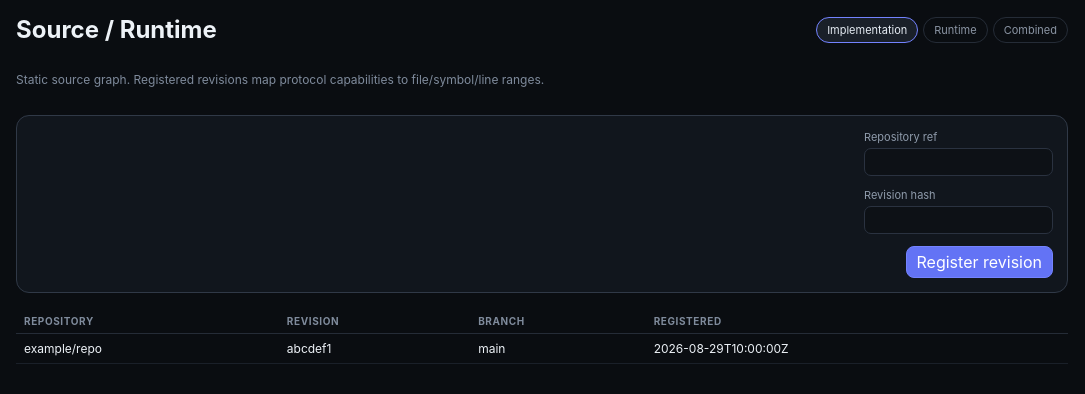
Test case: SourcePage — Stream E › switches to Runtime and renders the source graph
This screenshot has width=1085, height=394.
Click the tab with test id "source-mode-runtime" at (956, 30), box [923,16,988,42]
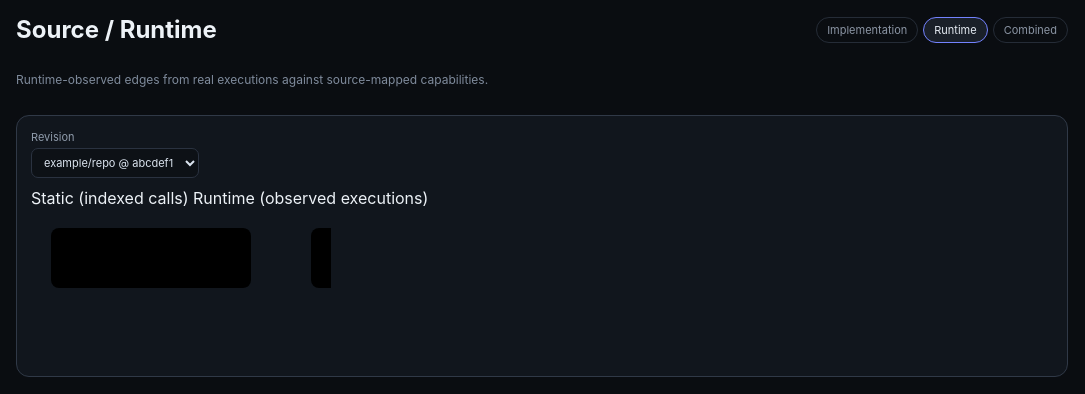
Now the element with test id "source-runtime-view" is shown
Now the icon with test id "source-graph" is shown, box [31,208,331,358]
